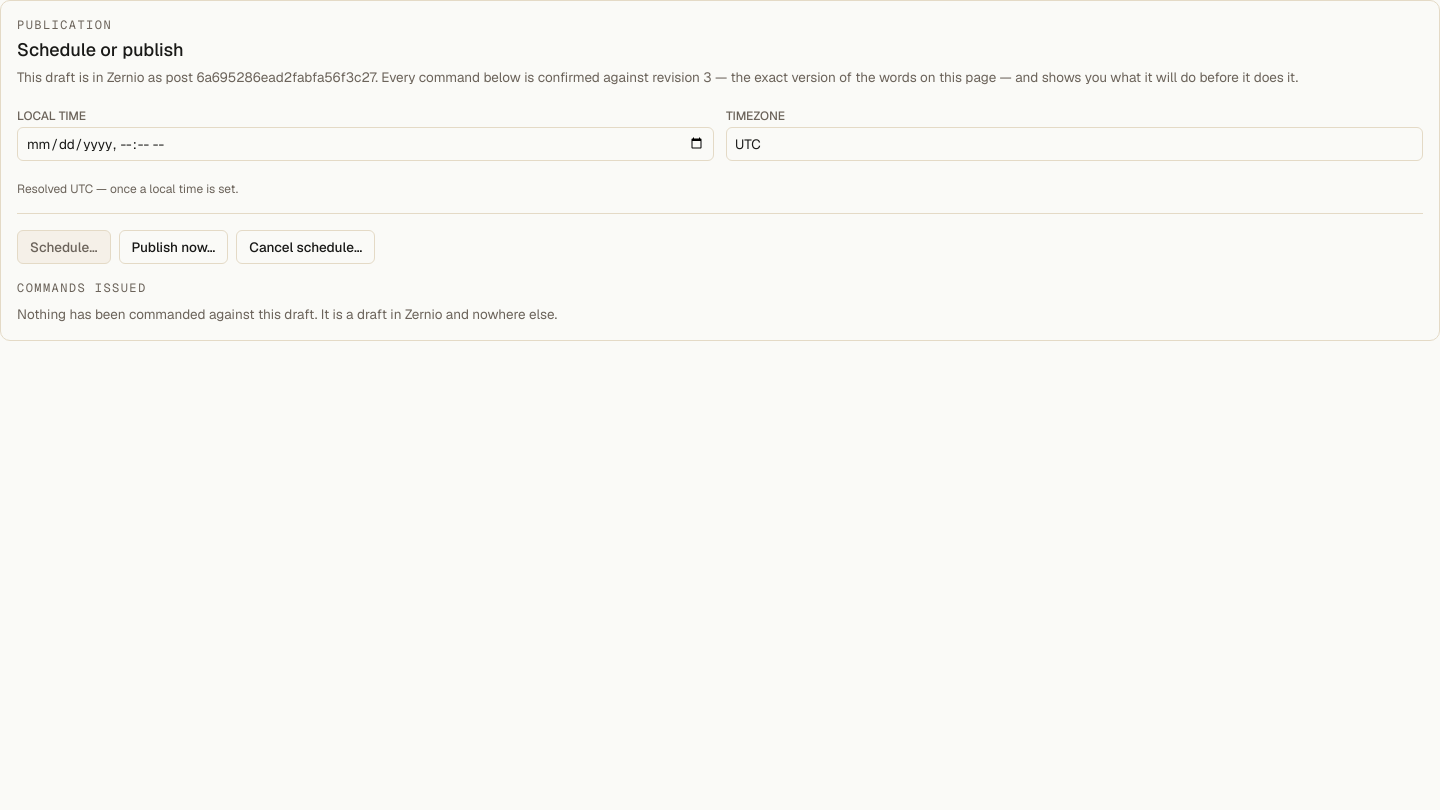
Scenario: the confirmation step › presents the account as Zernio's id and not as a person
The image size is (1440, 810).
Click the button "Publish now…": click(173, 247) [118,230,228,264]
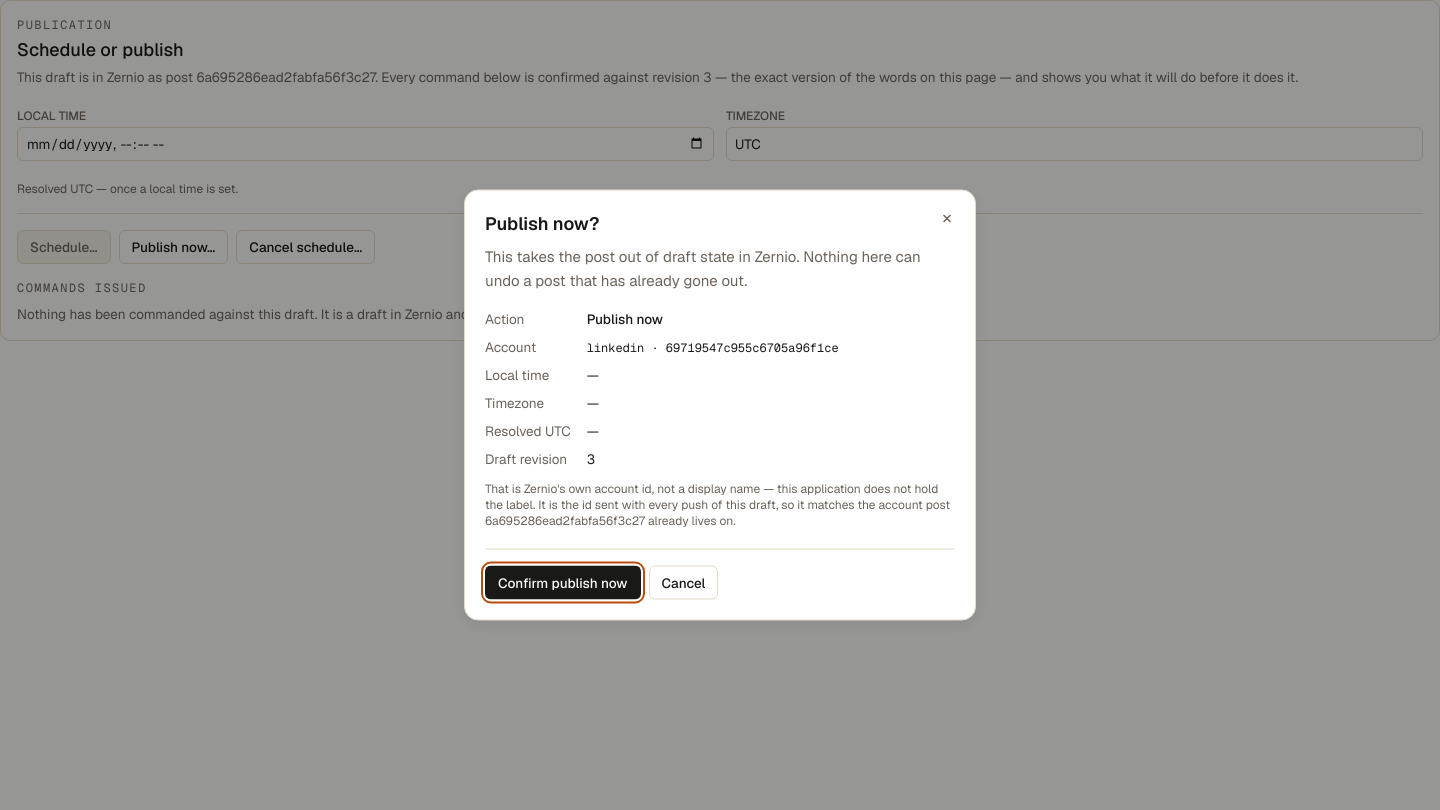
Now the text "linkedin · 69719547c955c6705a96f1ce" is shown, box [587,340,839,356]
Now the text "own account id, not a display name" is shown, box [485,480,950,512]
